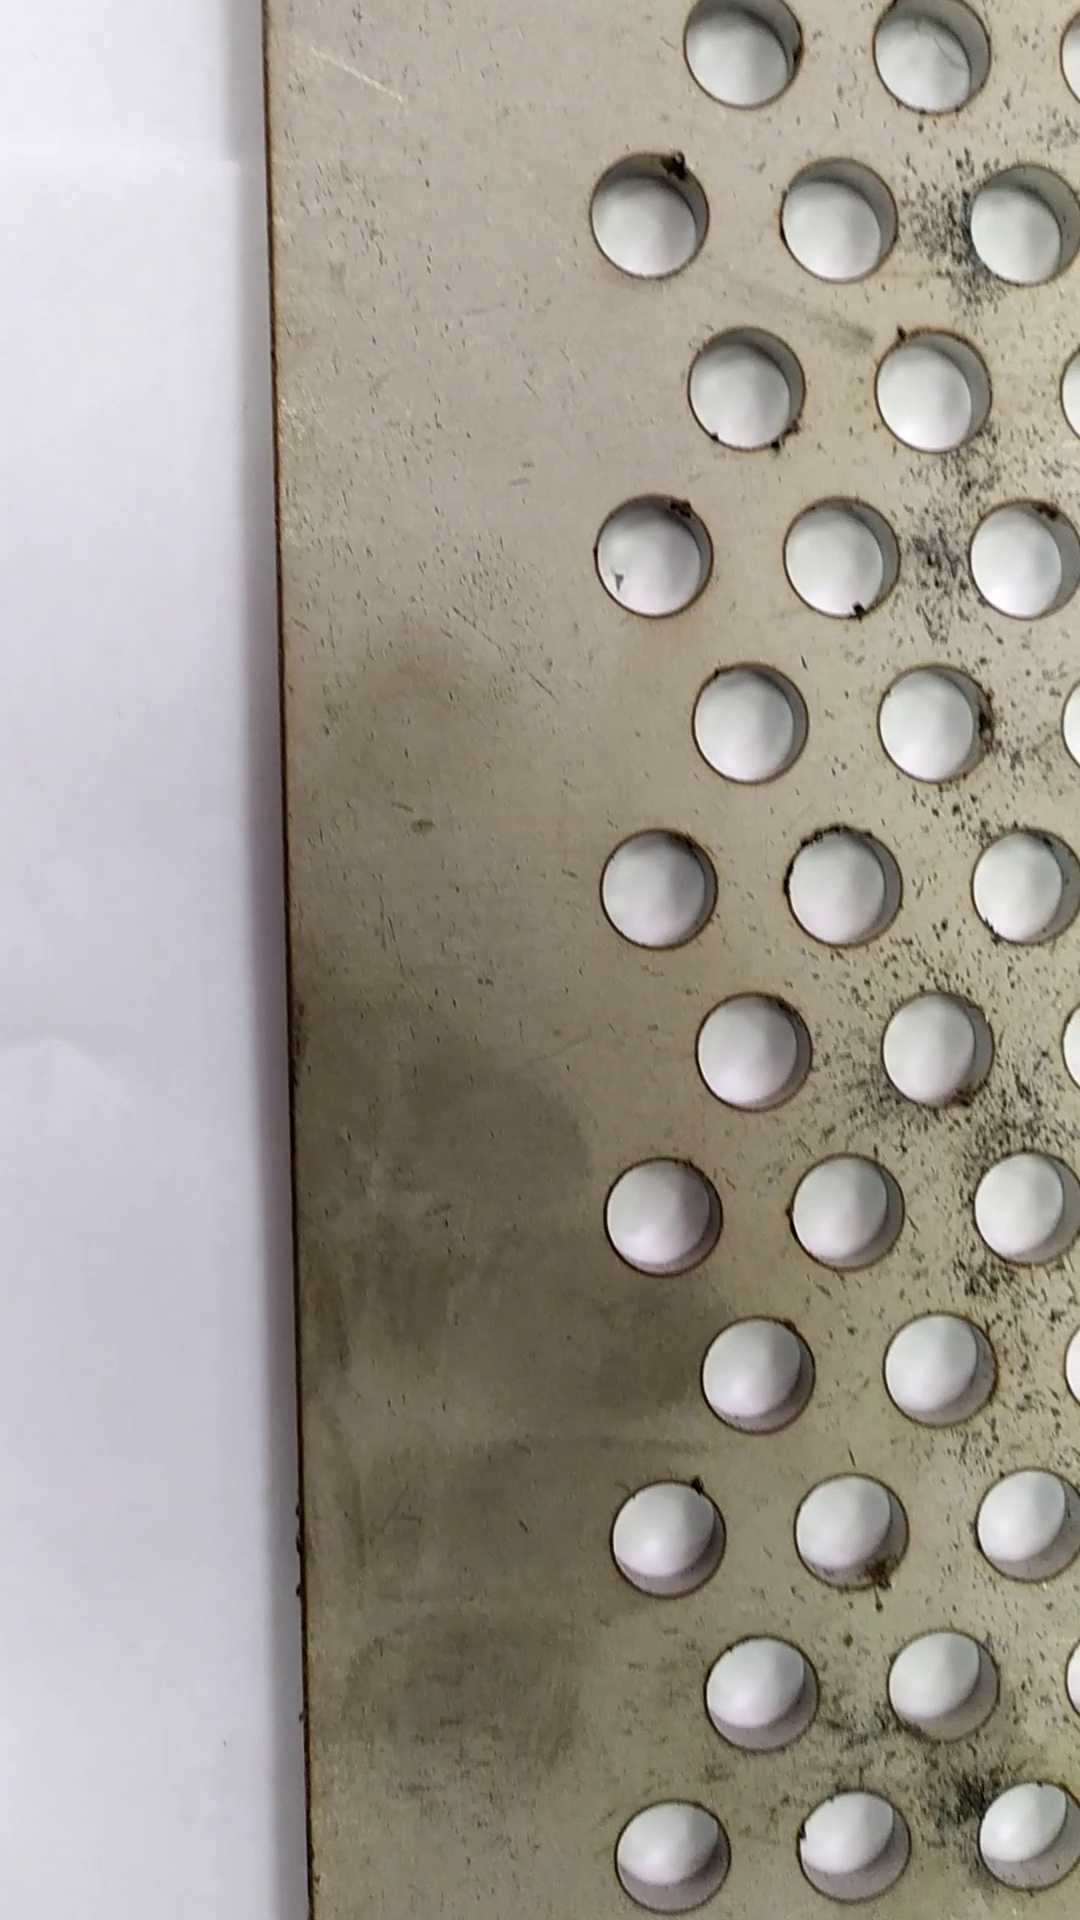Hole: (575, 135, 728, 289), (857, 313, 1006, 460), (765, 140, 909, 293), (861, 1302, 1022, 1436), (858, 975, 1007, 1120), (579, 822, 731, 960), (669, 315, 812, 460), (600, 1783, 752, 1920), (591, 1149, 740, 1287), (579, 487, 724, 626), (680, 651, 825, 791), (679, 985, 825, 1124), (873, 1617, 1026, 1749), (597, 1470, 741, 1609), (783, 1782, 932, 1913), (771, 485, 910, 626), (779, 1146, 920, 1284), (688, 1311, 836, 1443), (777, 815, 914, 956), (787, 1460, 928, 1596), (688, 1629, 833, 1760), (869, 662, 1004, 789), (955, 1138, 1080, 1269)
